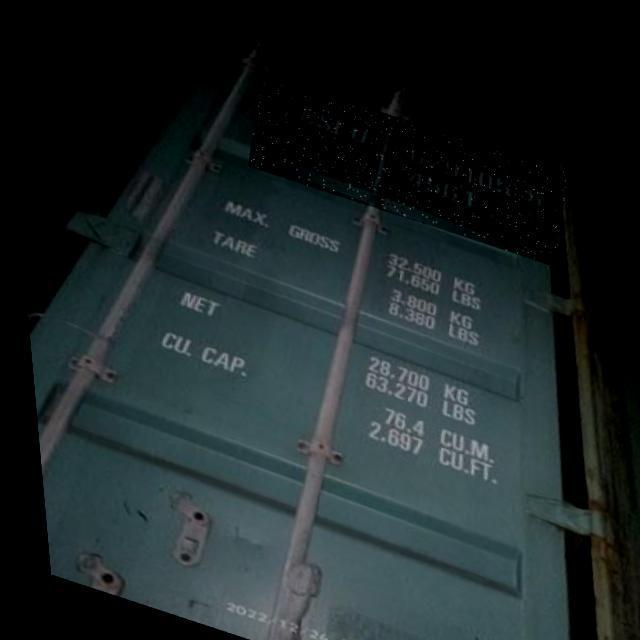container_number_h: (238, 65, 572, 256)
